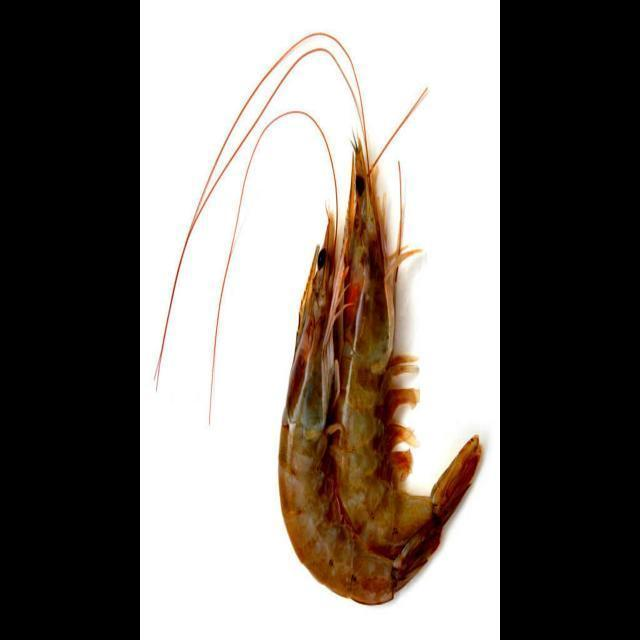shrimp: (279, 219, 441, 604), (333, 145, 479, 554)
